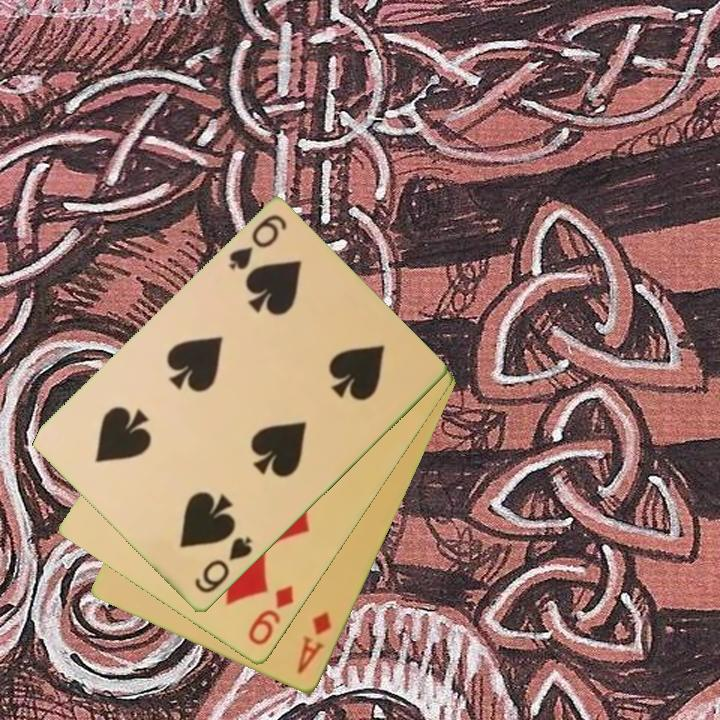6s: (191, 534, 256, 597), (225, 212, 290, 274)
9d: (244, 582, 297, 649)
Ad: (293, 608, 335, 678)
